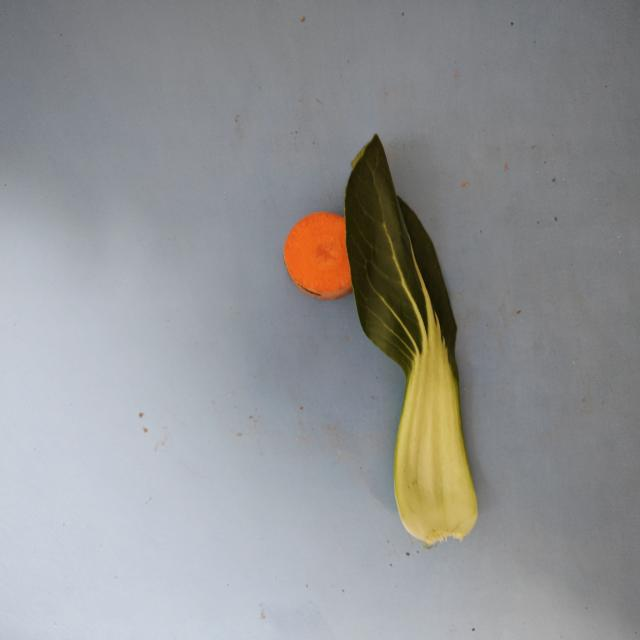-Kitchen waste - carrot-: (284, 210, 352, 301)
-Kitchen waste - vegetable roots and leaves-: (348, 132, 480, 545)
